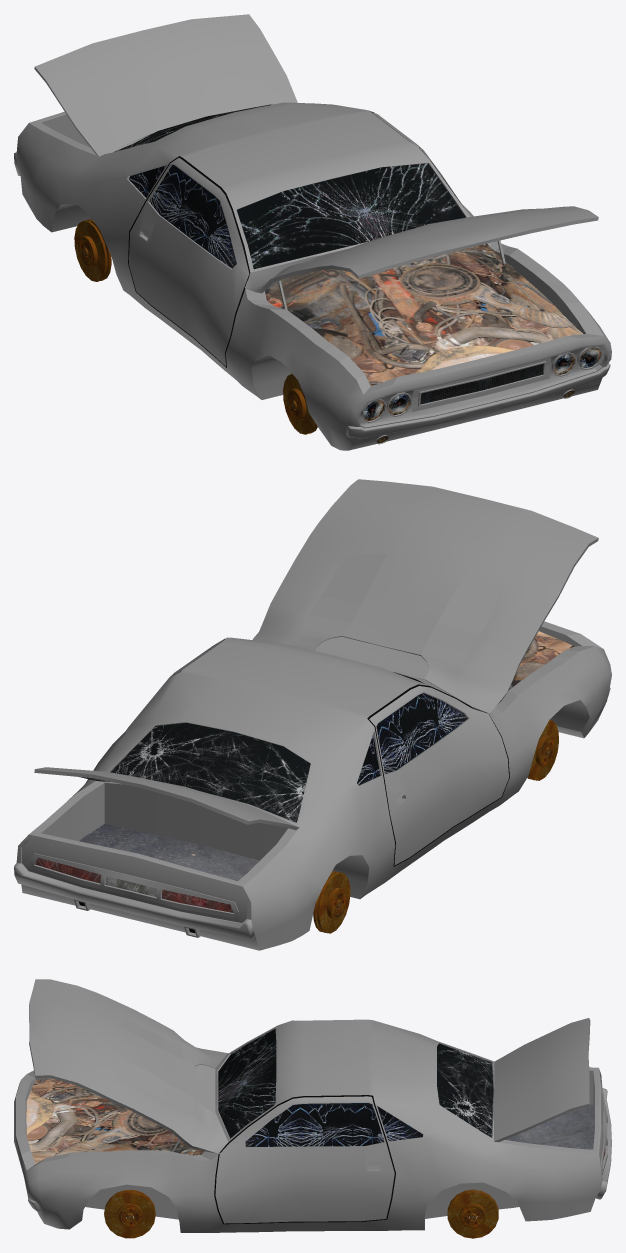
Rendered from Static_Car_Hood_And_Trunk_Open.FBX.
The picture shows the model from 3 angles, top to bottom: view 1: azimuth 30°, elevation 25°; view 2: azimuth 150°, elevation 25°; view 3: azimuth 270°, elevation 25°; orthographic projection. The views are drawn at different scales.
Visible parts, largest first — view 1: Static_Car_hood_and_trunk_open; view 2: Static_Car_hood_and_trunk_open; view 3: Static_Car_hood_and_trunk_open.
Boxes of the visible parts, x1,y1,x2,y2 form: Static_Car_hood_and_trunk_open: (14,14,611,450); Static_Car_hood_and_trunk_open: (14,479,611,950); Static_Car_hood_and_trunk_open: (14,979,611,1238).
Size of the model in its own units: 135 by 94.27 by 300.
